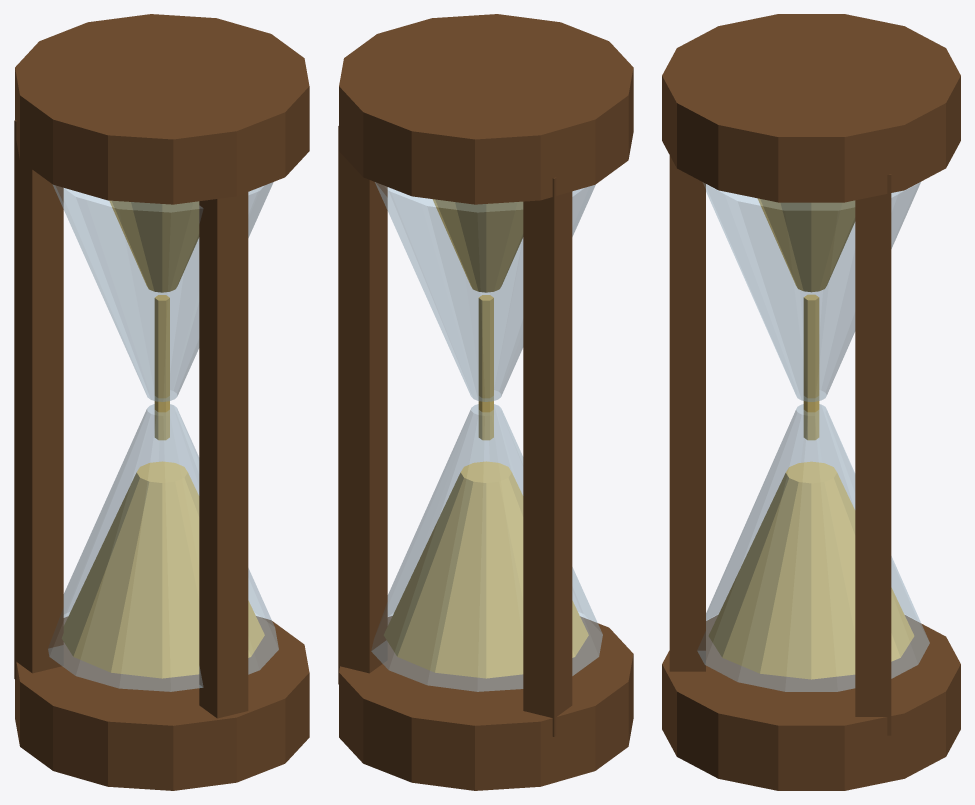
File: hourglass.glb
3 renders of one model, left to right at view 1: azimuth 30°, elevation 25°; view 2: azimuth 150°, elevation 25°; view 3: azimuth 270°, elevation 25°, orthographic.
Parts seen in each view (by area): view 1: hourglass; view 2: hourglass; view 3: hourglass.
Boxes of the visible parts, <box> form: hourglass: <box>14,14,309,790</box>; hourglass: <box>338,14,633,790</box>; hourglass: <box>662,14,960,790</box>.
Bounding box in the file's own units: 0.1131 × 0.28 × 0.116.
